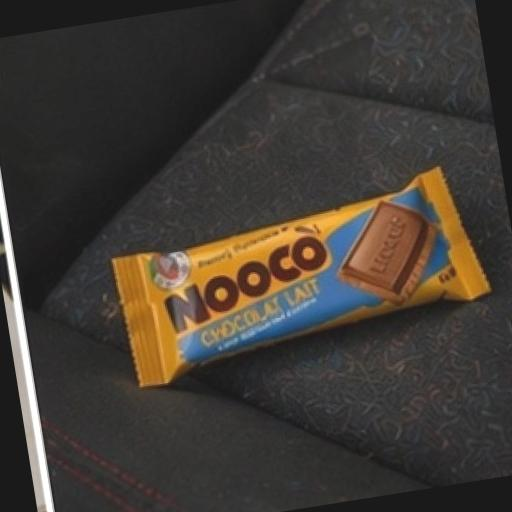biscuit-detection: (68, 125, 512, 423)
